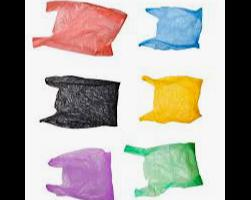Plastic: (35, 70, 122, 140), (31, 0, 130, 59), (122, 138, 206, 199), (137, 68, 214, 130), (40, 142, 118, 199), (134, 0, 210, 58)
